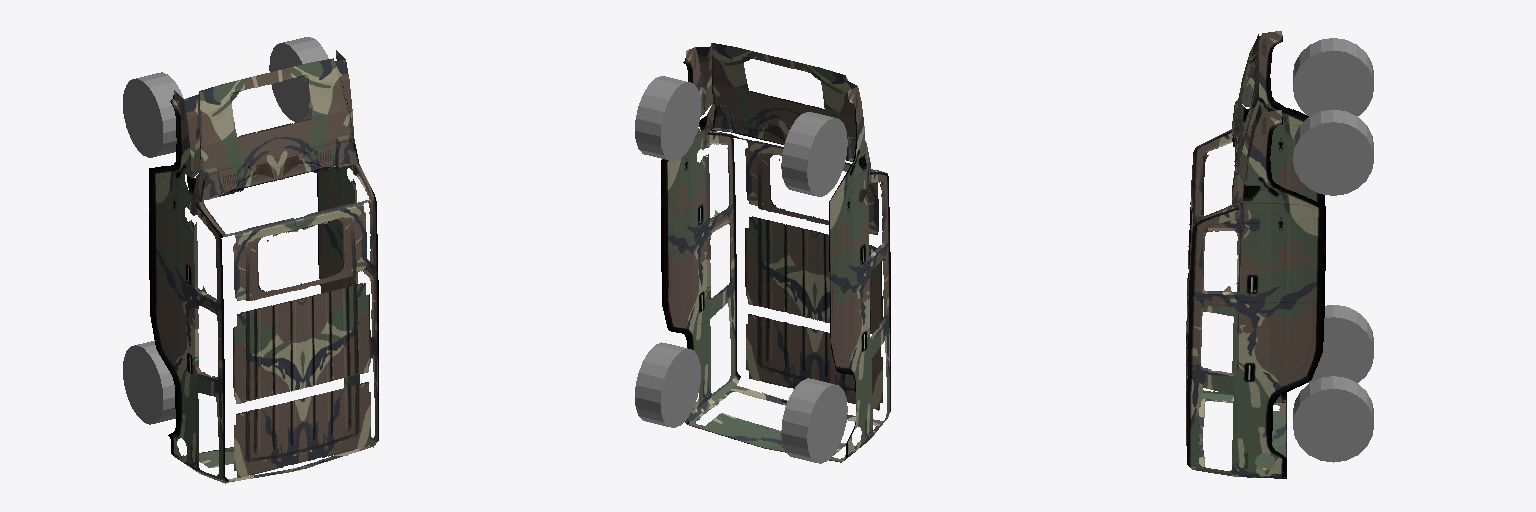
3 renders of one model, left to right at view 1: azimuth 30°, elevation 25°; view 2: azimuth 150°, elevation 25°; view 3: azimuth 270°, elevation 25°, orthographic.
Visible parts, largest first — view 1: tactical_vehicle, Wheel_Front_Left, Wheel_Rear, Wheel_Front_Right; view 2: tactical_vehicle, Wheel_Rear, Wheel_Front_Left, Wheel_Front_Right; view 3: tactical_vehicle, Wheel_Rear, Wheel_Front_Right, Wheel_Front_Left.
Boxes of the visible parts, <box> form: tactical_vehicle: <box>149,50,378,483</box>; Wheel_Front_Left: <box>123,72,183,157</box>; Wheel_Rear: <box>123,341,175,424</box>; Wheel_Front_Right: <box>269,37,328,121</box>; tactical_vehicle: <box>661,43,890,462</box>; Wheel_Rear: <box>635,342,847,463</box>; Wheel_Front_Left: <box>781,112,847,196</box>; Wheel_Front_Right: <box>635,76,700,161</box>; tactical_vehicle: <box>1186,31,1325,478</box>; Wheel_Rear: <box>1293,305,1373,462</box>; Wheel_Front_Right: <box>1293,109,1373,195</box>; Wheel_Front_Left: <box>1293,38,1373,115</box>.
Bounding box in the file's own units: 43.4 × 83.67 × 35.94.
Materials: 2 (1 with a texture image).